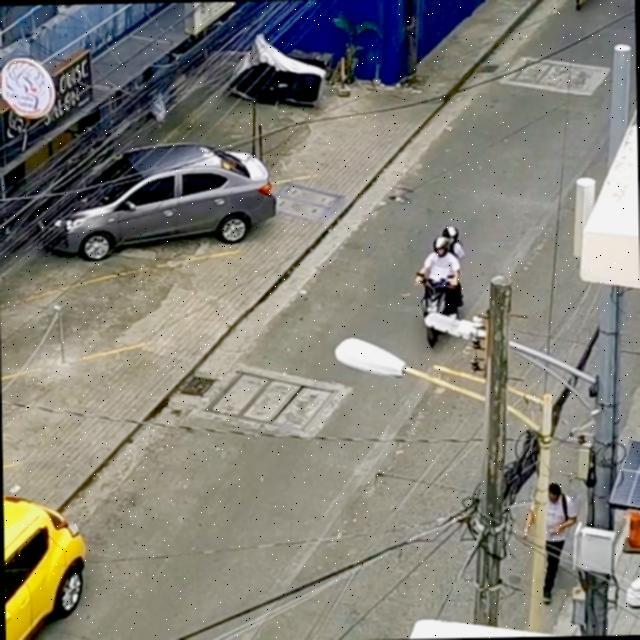Bike: (537, 0, 635, 37)
